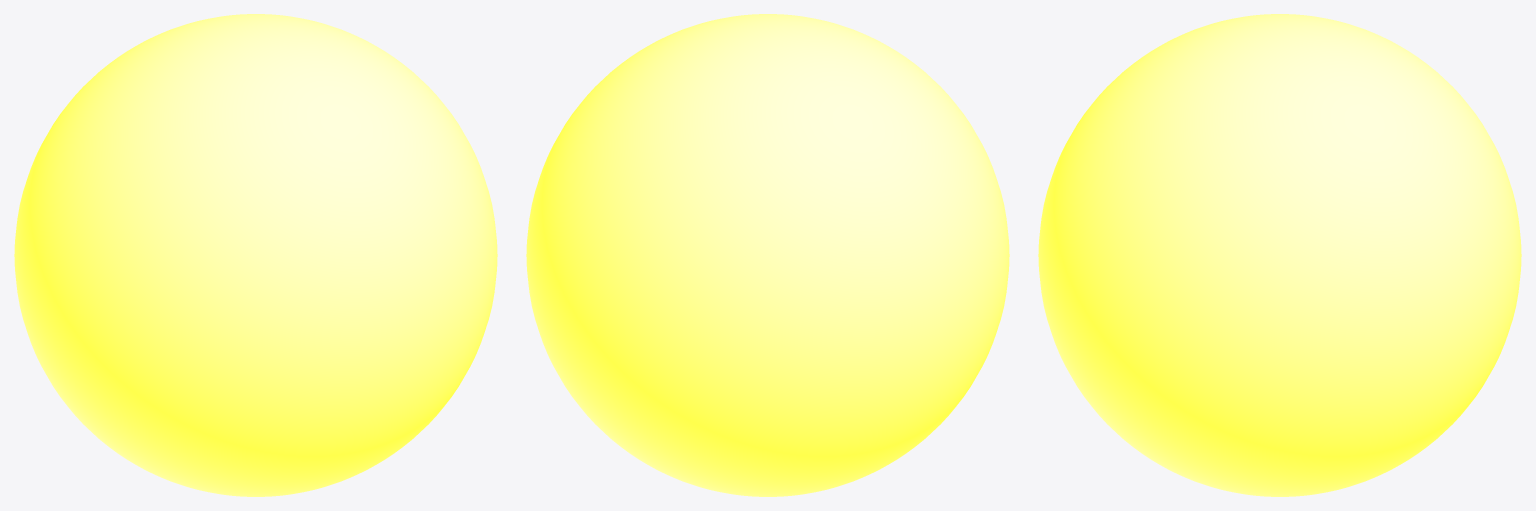
File: sunof.glb
3 renders of one model, left to right at view 1: azimuth 30°, elevation 25°; view 2: azimuth 150°, elevation 25°; view 3: azimuth 270°, elevation 25°, orthographic.
Parts seen in each view (by area): view 1: Sphere; view 2: Sphere; view 3: Sphere.
Boxes of the visible parts, x1,y1,x2,y2 form: Sphere: [14, 14, 497, 496]; Sphere: [526, 14, 1009, 496]; Sphere: [1038, 14, 1521, 496].
Size of the model in its own units: 139 by 139 by 139.
